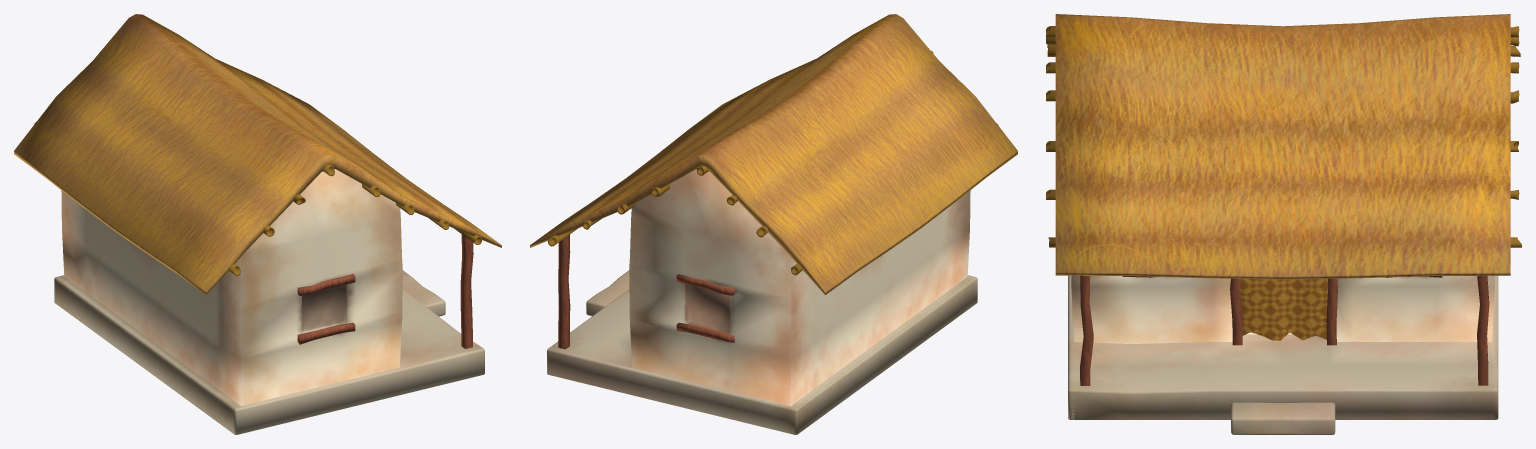
Rendered from rumah atap jerami.fbx.
The picture shows the model from 3 angles, left to right: view 1: azimuth 30°, elevation 25°; view 2: azimuth 150°, elevation 25°; view 3: azimuth 270°, elevation 25°; orthographic projection. The views are drawn at different scales.
Visible parts, largest first — view 1: House.001; view 2: House.001; view 3: House.001.
Boxes of the visible parts, x1,y1,x2,y2 form: House.001: [14, 14, 501, 434]; House.001: [530, 14, 1017, 434]; House.001: [1046, 14, 1521, 434].
Bounding box in the file's own units: 1482 × 1185 × 1644.
1 material, 1 textured.
